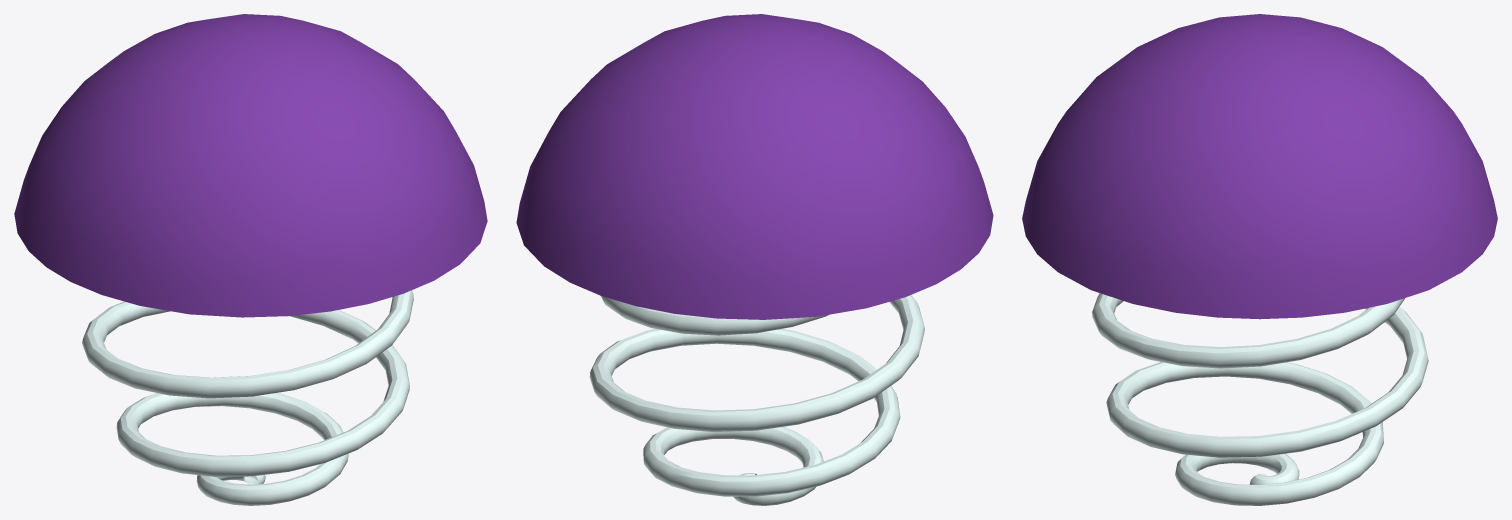
The model's file is Bouncer.fbx.
3 views of the same model, side by side, from view 1: azimuth 30°, elevation 25°; view 2: azimuth 150°, elevation 25°; view 3: azimuth 270°, elevation 25° (orthographic).
Visible parts, largest first — view 1: Spiral.001; view 2: Spiral.001; view 3: Spiral.001.
Boxes of the visible parts, x1=… form: Spiral.001: x1=14, y1=14, x2=487, y2=505; Spiral.001: x1=516, y1=14, x2=993, y2=505; Spiral.001: x1=1022, y1=14, x2=1497, y2=505.
Size of the model in its own units: 441 by 468 by 441.
